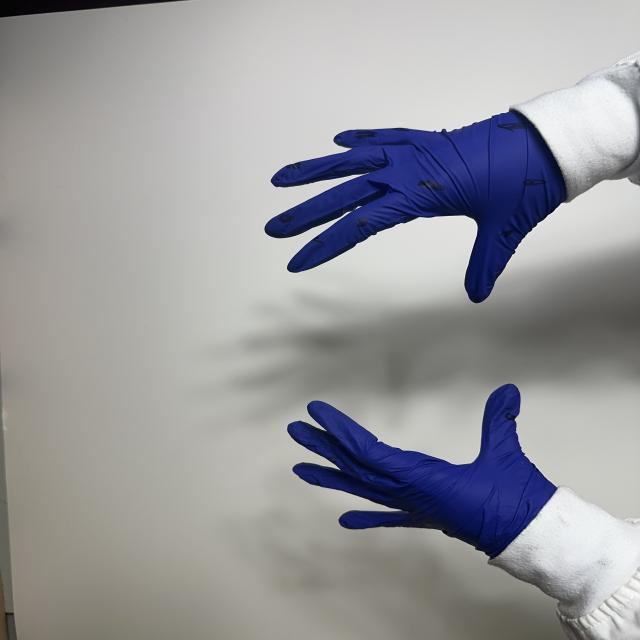gloves_contaminated: (265, 114, 566, 302), (288, 384, 556, 559)
